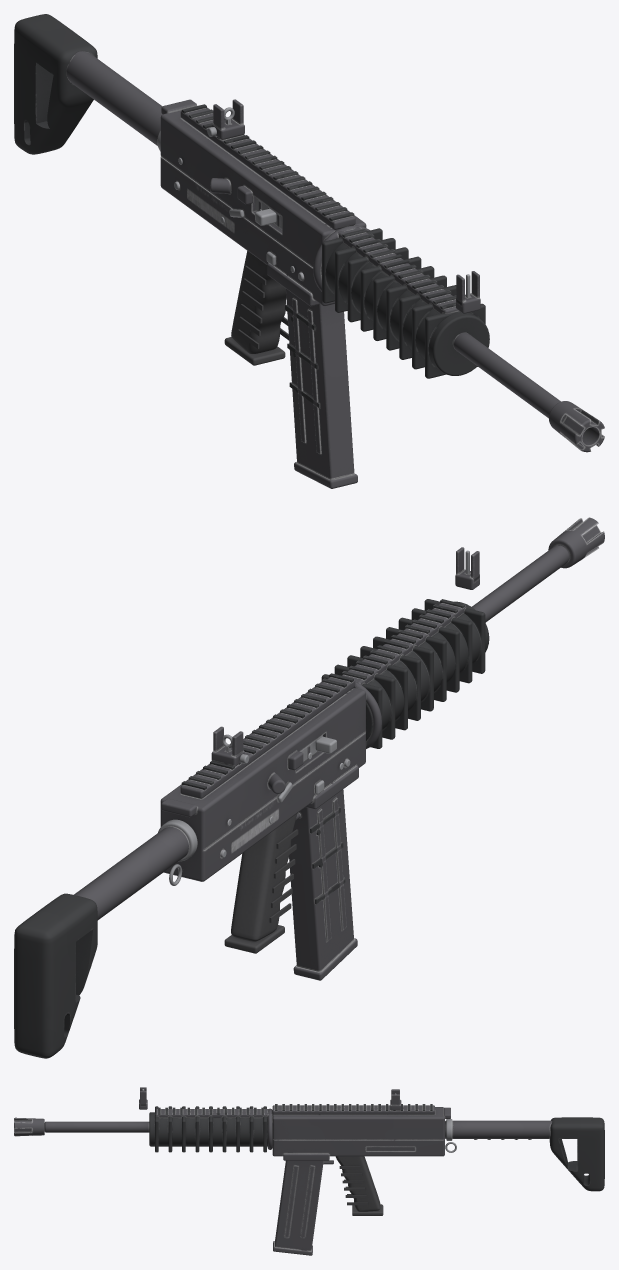
The picture shows the model from 3 angles, top to bottom: view 1: azimuth 30°, elevation 25°; view 2: azimuth 150°, elevation 25°; view 3: azimuth 270°, elevation 25°; orthographic projection. The views are drawn at different scales.
Parts seen in each view (by area): view 1: m4a4; view 2: m4a4; view 3: m4a4.
Part boxes in pixels (bbox=[...]): m4a4: bbox=[14, 14, 604, 488]; m4a4: bbox=[14, 517, 604, 1058]; m4a4: bbox=[14, 1087, 604, 1255].
Size of the model in its own units: 0.0717 by 0.2924 by 0.9599.
